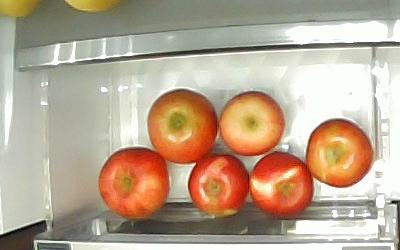apple: (97, 145, 171, 221), (146, 87, 218, 164), (304, 116, 373, 188), (248, 149, 314, 219), (217, 89, 285, 156), (186, 150, 249, 216)
